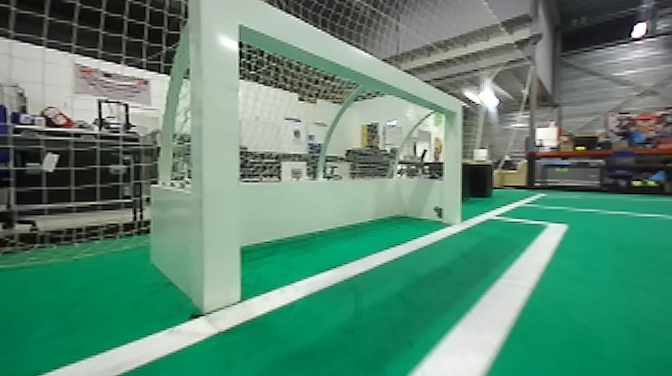goalpost: (185, 1, 247, 316), (440, 94, 466, 230)
